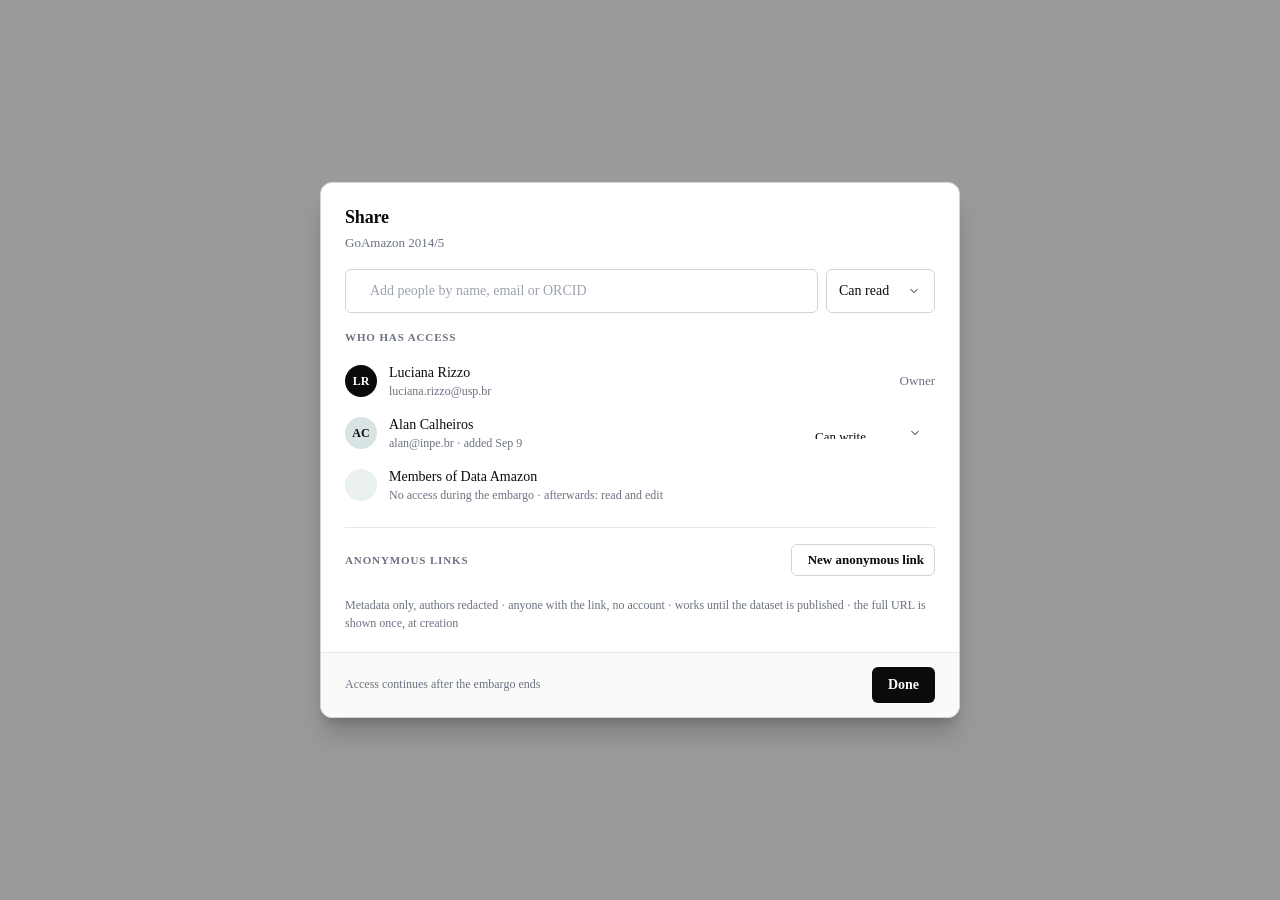
Test: ShareDialog › a refused grant keeps what was typed, so it can be corrected
Type "joao@inpe.br" into the field labelled "Add people by name, email or ORCID".
click(586, 291); type("joao@inpe.br")  # box [370,270,803,312]
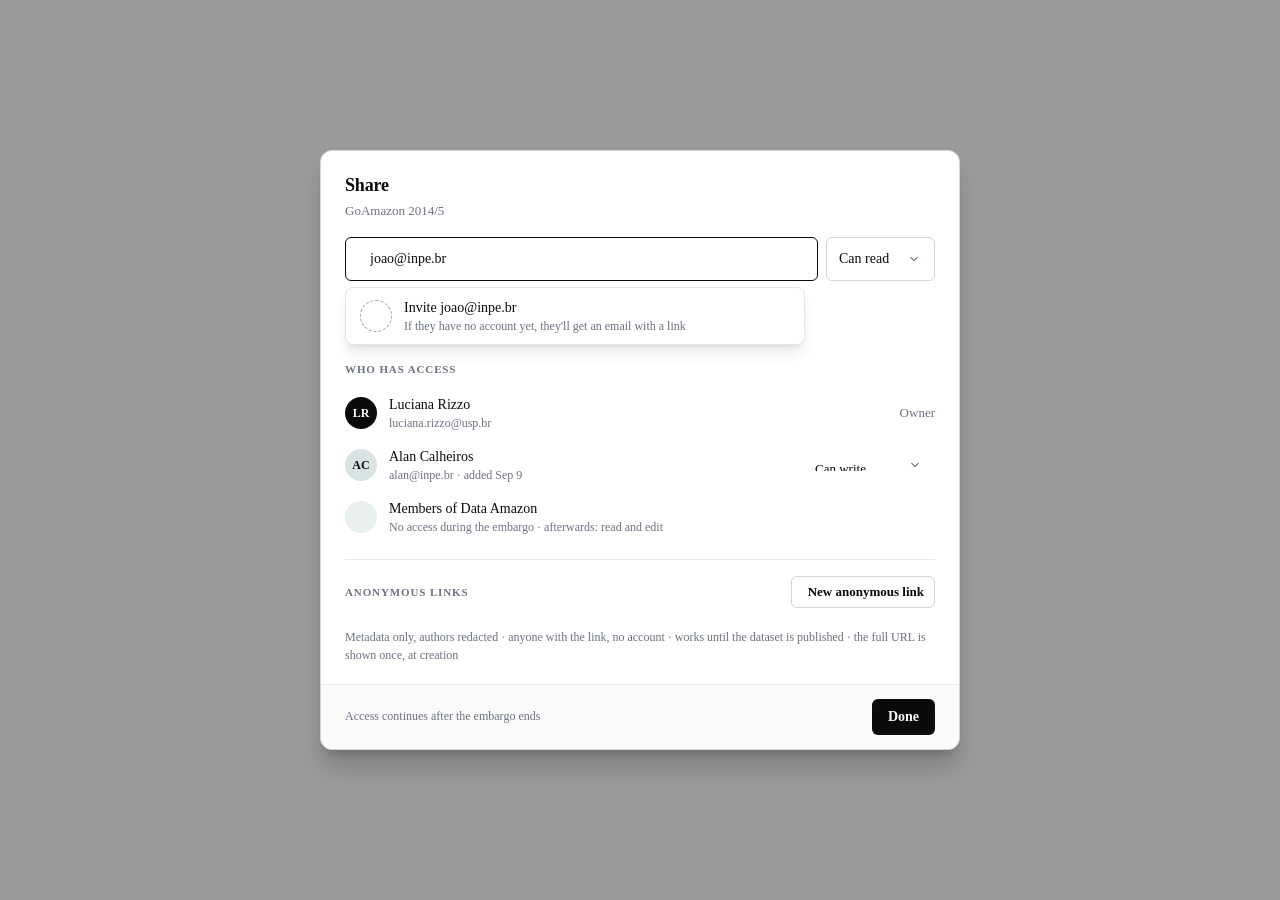
Click the button "Invite joao@inpe.br".
click(575, 316)  # box [346,288,804,344]
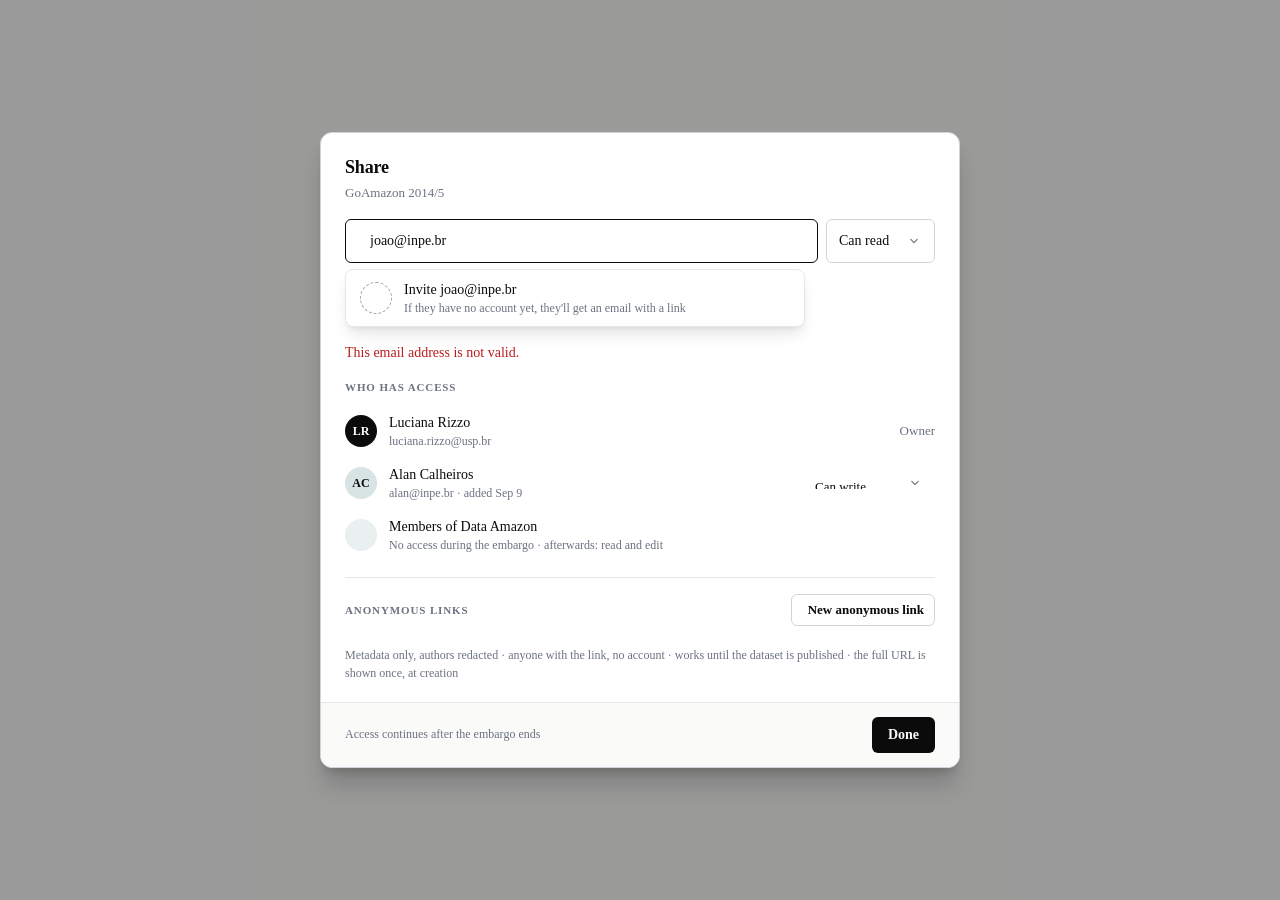
Now the text "This email address is not valid." is shown, box [345,345,519,360]
